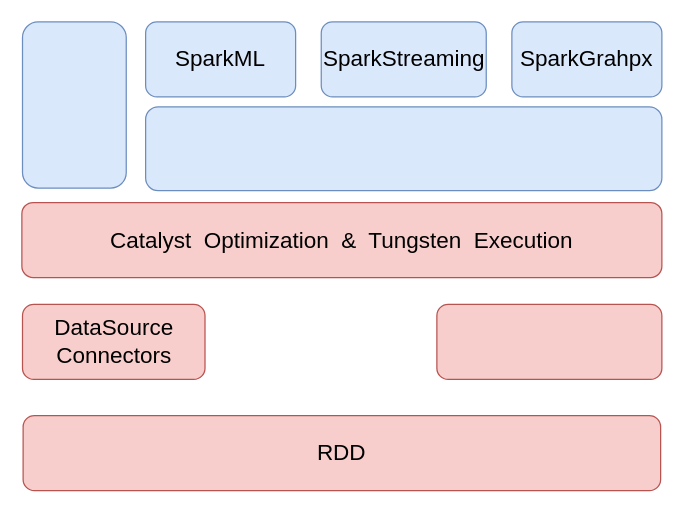
Image size: 684x513. Some labels were removed from this diagram. Each missing label, with the centre of its shape:
Spark Core: the point at 549,341
SparkSession / DataFrames / DataSet APIS: the point at 403,148
SQL: the point at 73,104
